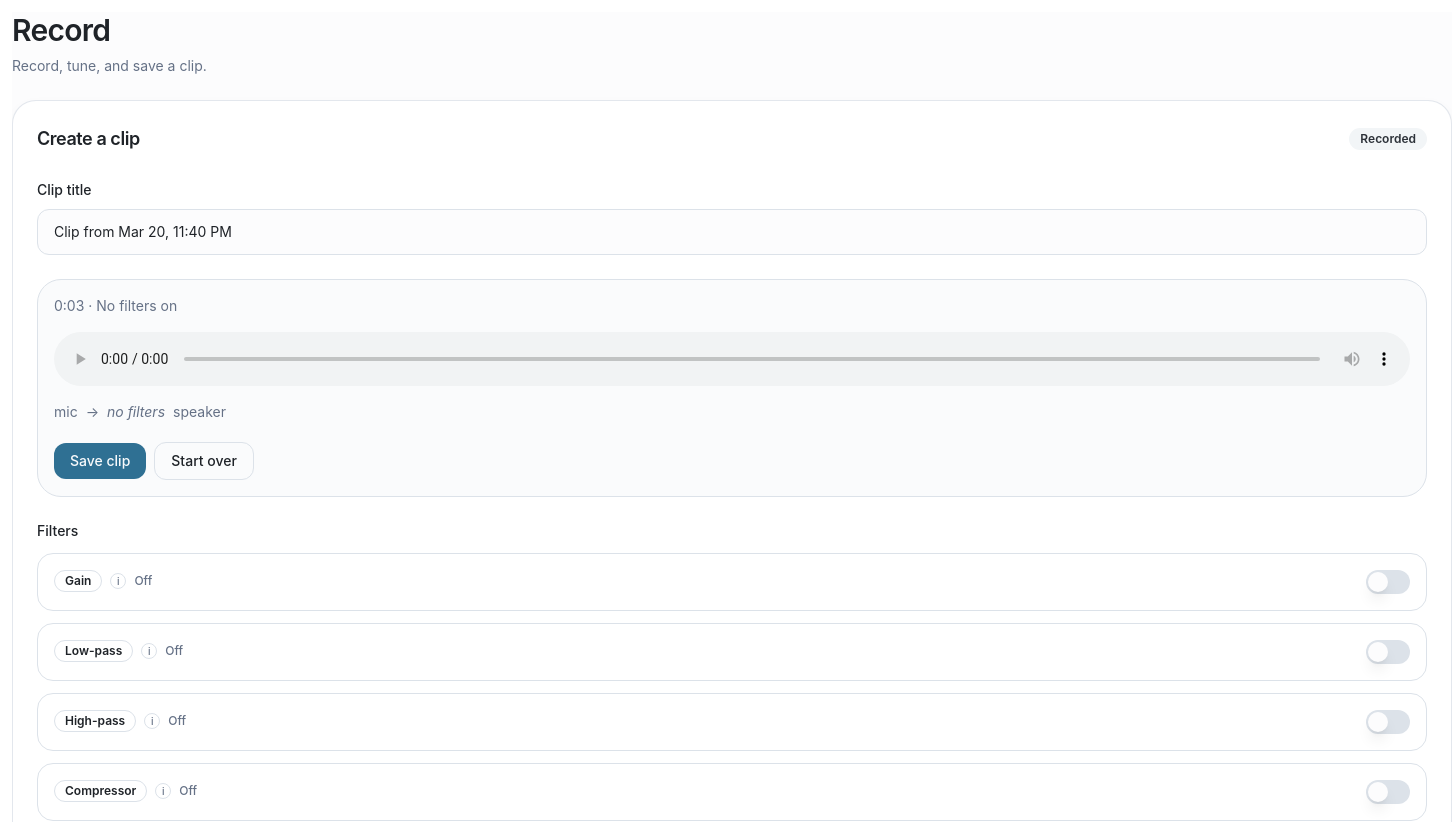
RecordPage › shows loading state while uploading and only navigates after success
This screenshot has width=1452, height=822.
Click the button "Save clip". click: coordinates (100, 461)
box: [54, 443, 146, 479]
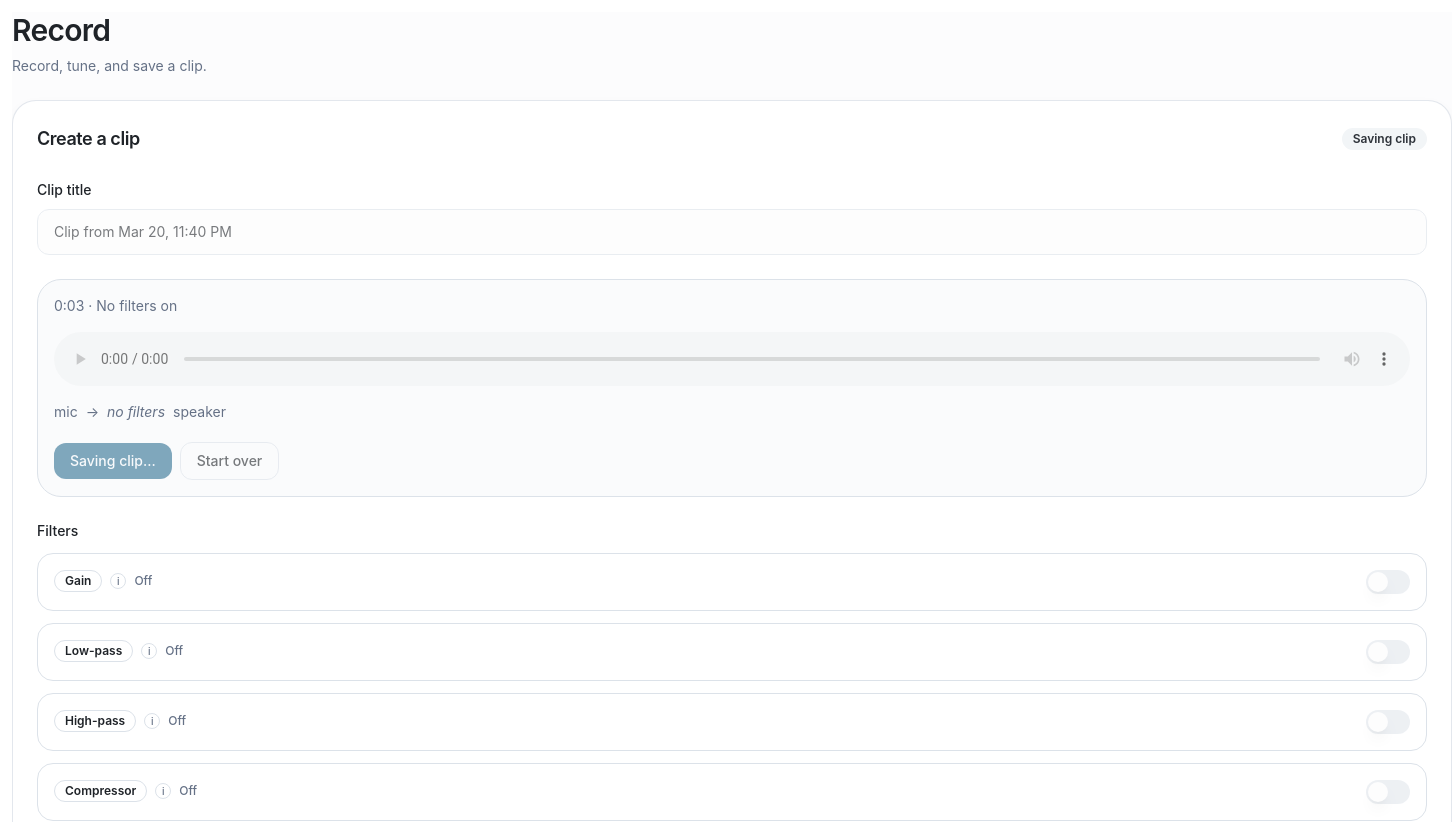
expect the button "Saving clip..." is disabled: met, box [54, 443, 172, 479]
expect the field labelled "Clip title" is disabled: met, box [37, 209, 1427, 255]
expect the button "Start over" is disabled: met, box [180, 442, 279, 480]
